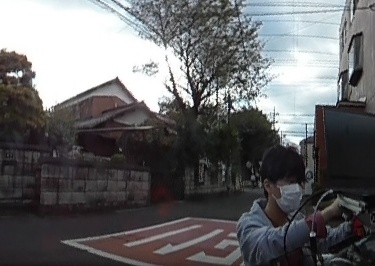person: (234, 142, 338, 266)
